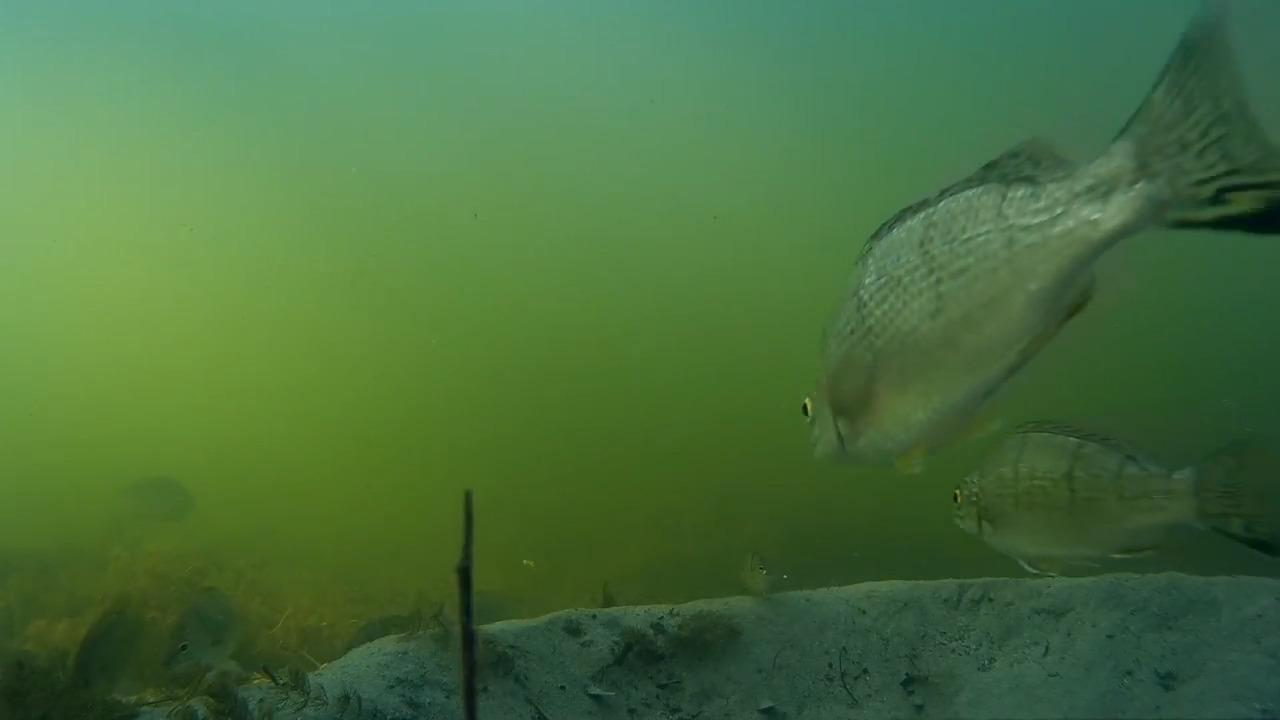Tilapia: (803, 21, 1280, 483), (926, 417, 1267, 580), (166, 578, 251, 684), (103, 468, 231, 528), (720, 532, 797, 618)
